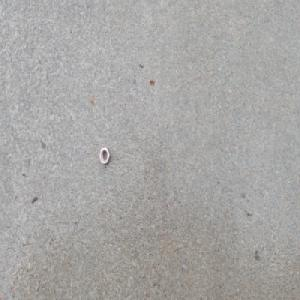Nut: (99, 146, 110, 164)
